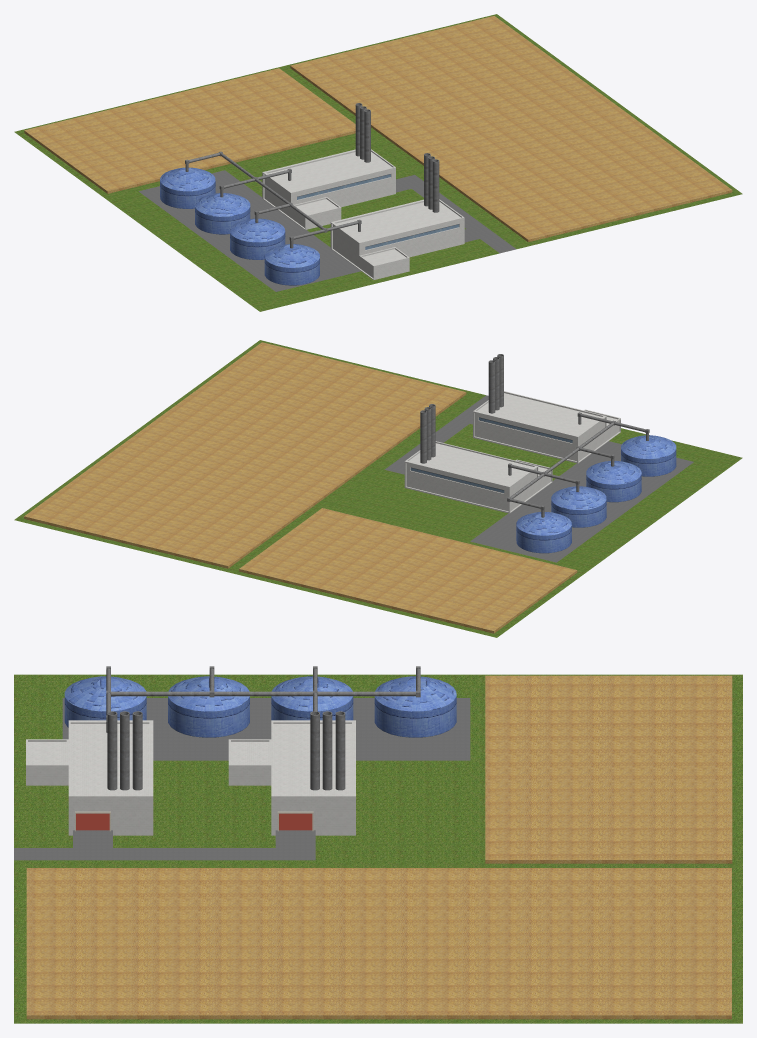
The model's file is Biogaskraftwerk_Tech2.fbx.
3 renders of one model, top to bottom at view 1: azimuth 30°, elevation 25°; view 2: azimuth 150°, elevation 25°; view 3: azimuth 270°, elevation 25°, orthographic. The views are drawn at different scales.
Parts seen in each view (by area): view 1: bio_tech_2_1; view 2: bio_tech_2_1; view 3: bio_tech_2_1.
Boxes of the visible parts, left/top/right/bottom form: bio_tech_2_1: left=14, top=14, right=742, bottom=311; bio_tech_2_1: left=14, top=340, right=742, bottom=637; bio_tech_2_1: left=14, top=666, right=742, bottom=1023.
Bounding box in the file's own units: 200 × 30 × 176.
